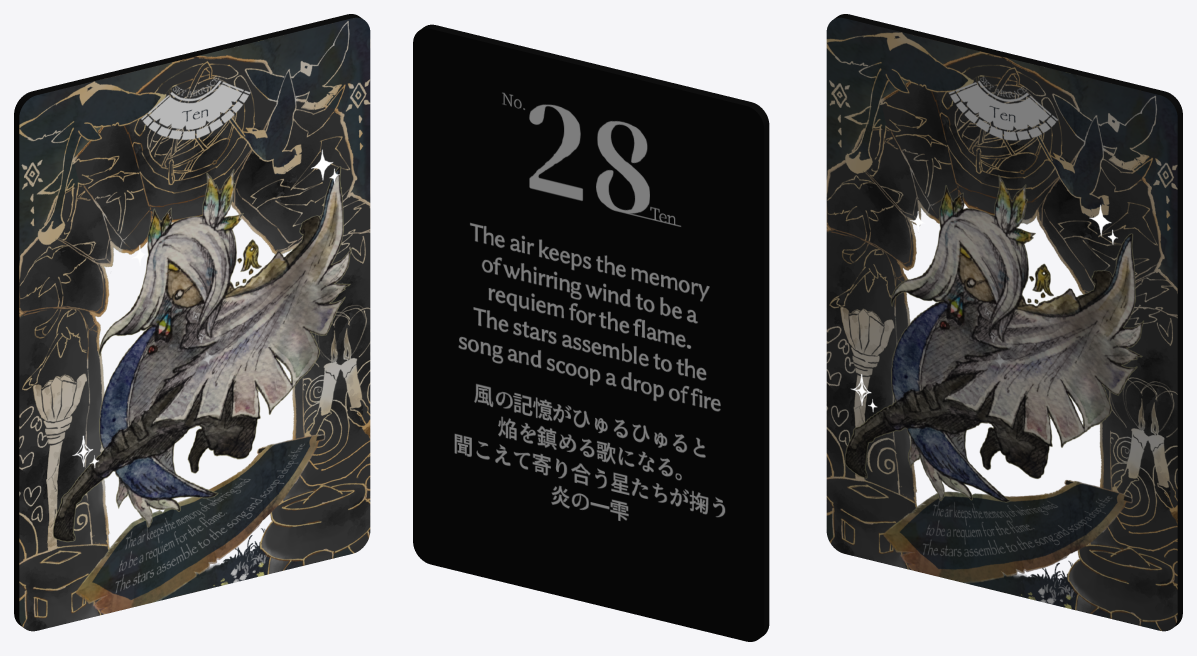
Rendered from 28_Ten.glb.
The picture shows the model from 3 angles, left to right: view 1: azimuth 30°, elevation 25°; view 2: azimuth 150°, elevation 25°; view 3: azimuth 330°, elevation 25°; orthographic projection.
Visible parts, largest first — view 1: きらきら; view 2: きらきら; view 3: きらきら.
Boxes of the visible parts, x1,y1,x2,y2 form: きらきら: [14, 14, 370, 631]; きらきら: [413, 24, 769, 641]; きらきら: [826, 14, 1182, 631].
Bounding box in the file's own units: 0.236 × 0.344 × 0.023.
Materials: 5 (4 with a texture image).
